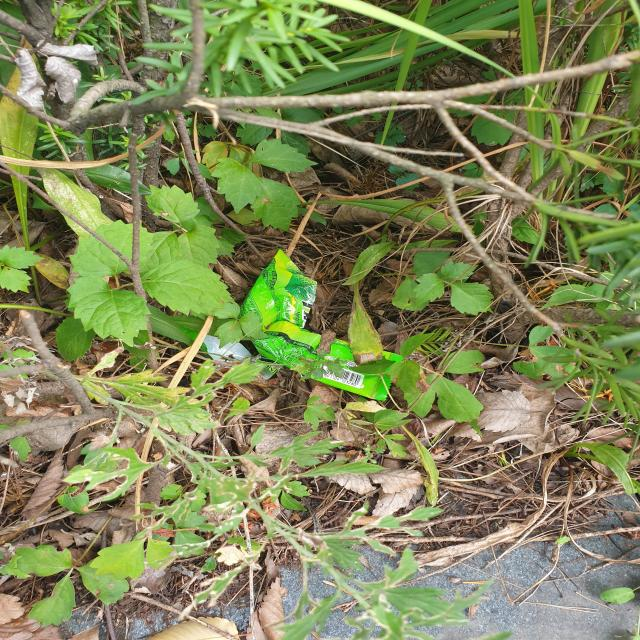litter: (242, 249, 407, 400)
